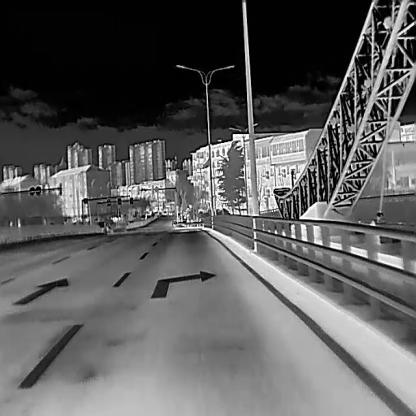car: (96, 220, 104, 231), (138, 213, 146, 220)
